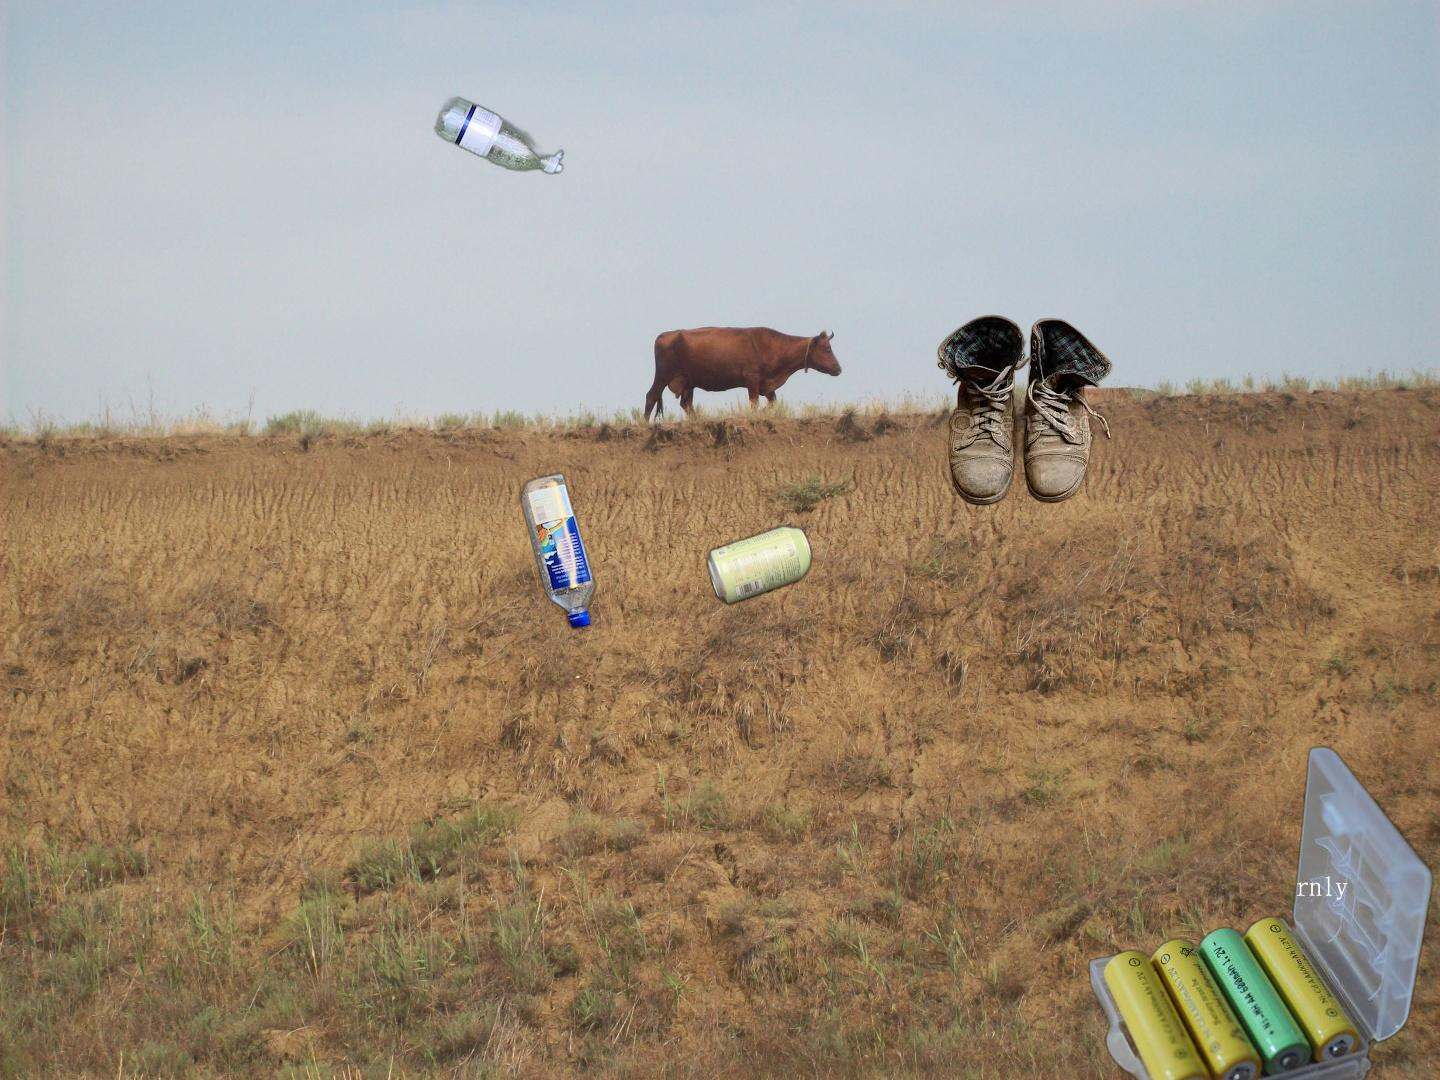battery: (1084, 742, 1438, 1080)
biological: (1437, 749, 1440, 922)
metal-cans: (702, 520, 816, 611)
plastic-bottles: (517, 467, 601, 636), (431, 92, 567, 180)
shoes: (937, 313, 1115, 508)
trashbox-cardboard: (1403, 1011, 1440, 1080)
